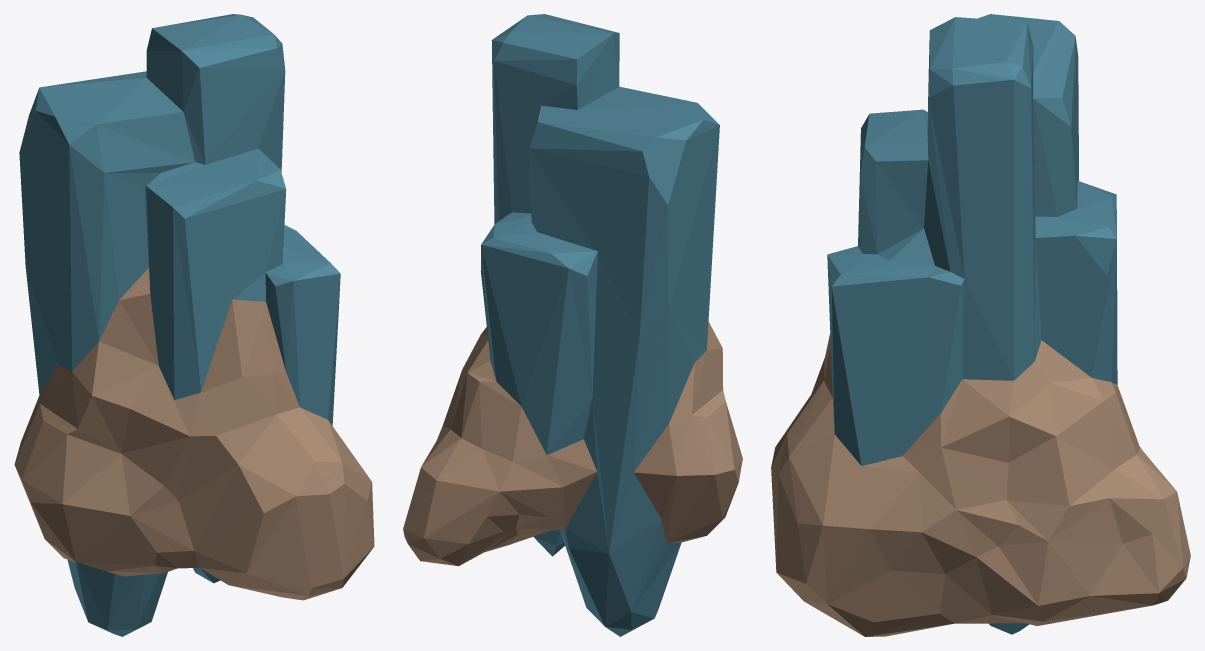
The model's file is SM_LP_Mineral_3.fbx.
3 views of the same model, side by side, from view 1: azimuth 30°, elevation 25°; view 2: azimuth 150°, elevation 25°; view 3: azimuth 270°, elevation 25° (orthographic). The views are drawn at different scales.
Visible parts, largest first — view 1: SM_LP_Mineral_3; view 2: SM_LP_Mineral_3; view 3: SM_LP_Mineral_3.
Part boxes in pixels (<box>): SM_LP_Mineral_3: <box>14,14,374,636</box>; SM_LP_Mineral_3: <box>403,14,742,636</box>; SM_LP_Mineral_3: <box>771,14,1190,636</box>.
Bounding box in the file's own units: 0.6931 × 1.41 × 0.8477.
